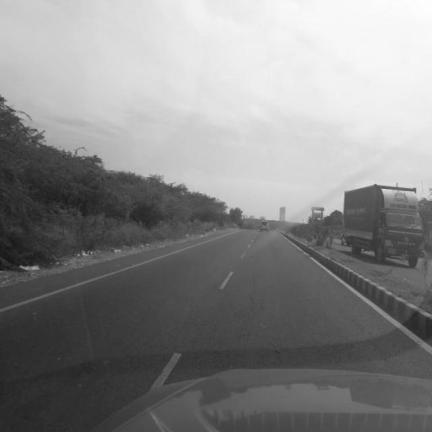Road: (0, 231, 431, 430)
